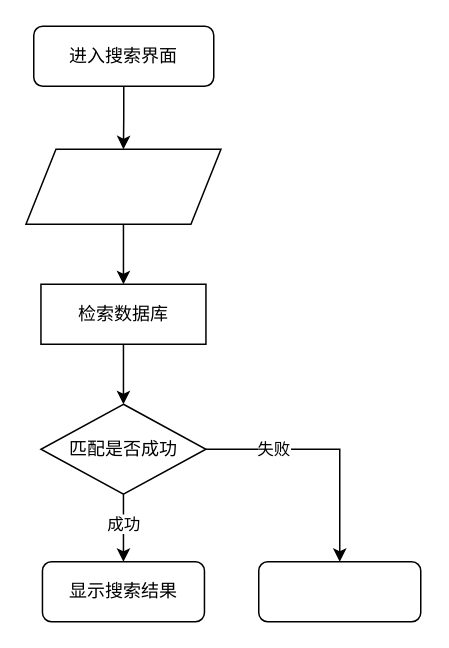
The diagram is 449 pixels wide and 648 high, and some of its shapes have lost their labels. Here are the shapes that lost their labels. From the top down, the centre of each, then its label:
At [122,186]: "输入时间、地点 等相关信息".
At [339,591]: "显示未找到".
